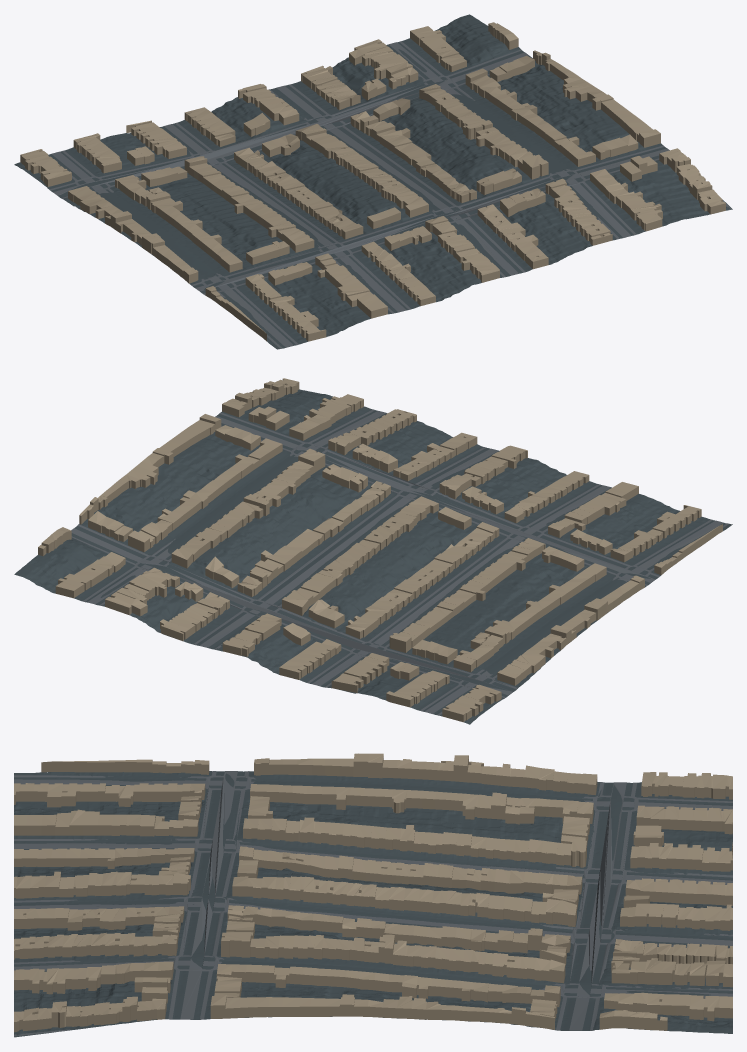
The model's file is epsg26910-1419-10880.lod0.glb.
The picture shows the model from 3 angles, top to bottom: view 1: azimuth 30°, elevation 25°; view 2: azimuth 150°, elevation 25°; view 3: azimuth 270°, elevation 25°; orthographic projection. The views are drawn at different scales.
Parts seen in each view (by area): view 1: epsg26910-1419-10880-lod0; view 2: epsg26910-1419-10880-lod0; view 3: epsg26910-1419-10880-lod0.
Part boxes in pixels (x1,y1,x2,y2): epsg26910-1419-10880-lod0: [14, 14, 732, 349]; epsg26910-1419-10880-lod0: [14, 378, 732, 724]; epsg26910-1419-10880-lod0: [14, 753, 732, 1037].
Size of the model in its own units: 384 by 48.7 by 384.
